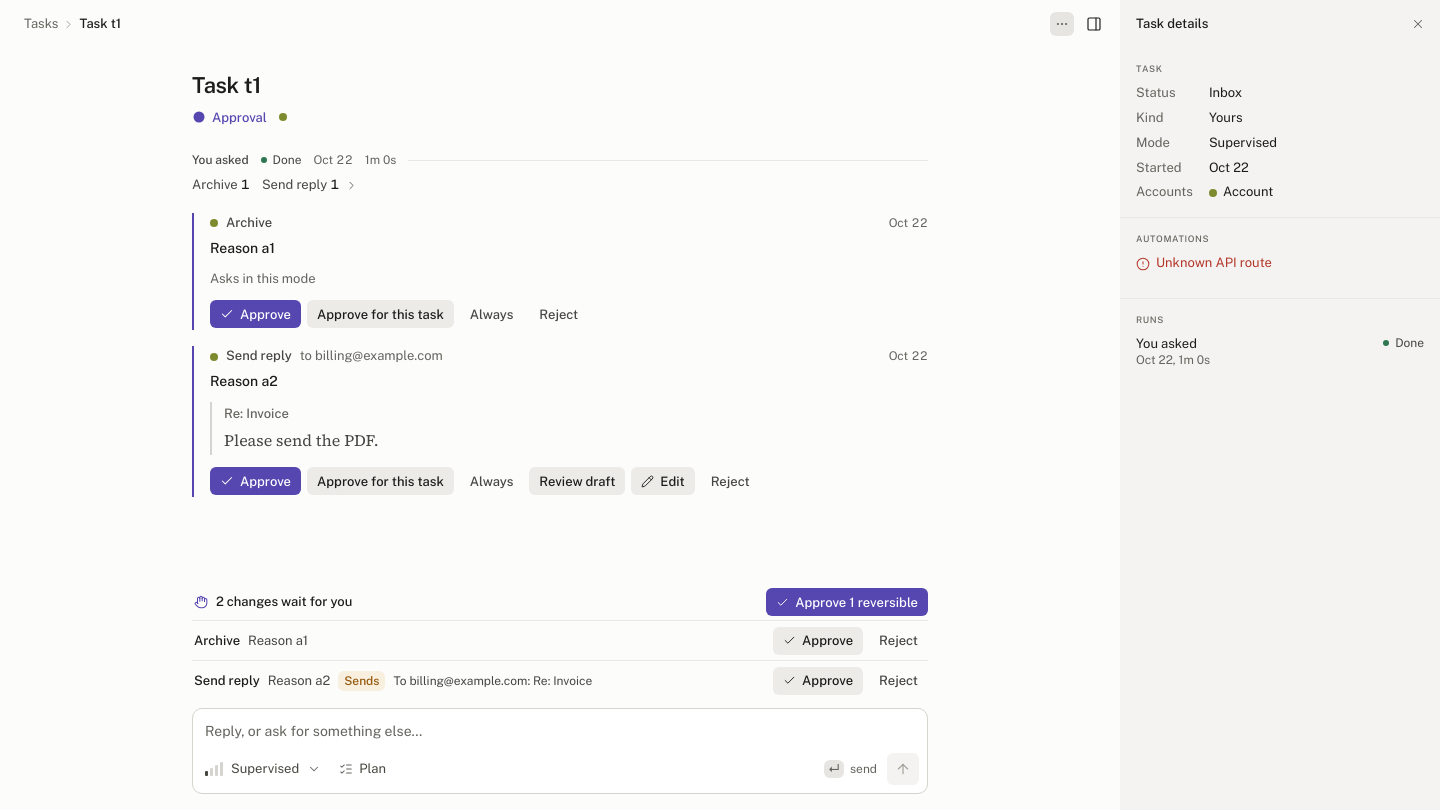
approvals › wires inline cards and the composer panel to approve and reject, following pendingActionIds
Expected: the button "Edit" is shown, [631, 467, 695, 495]
What coordinates should you click on to do the following:
click the button "Approve 1 reversible"
I would click on:
 (847, 602)
Its box is [766, 588, 928, 616].
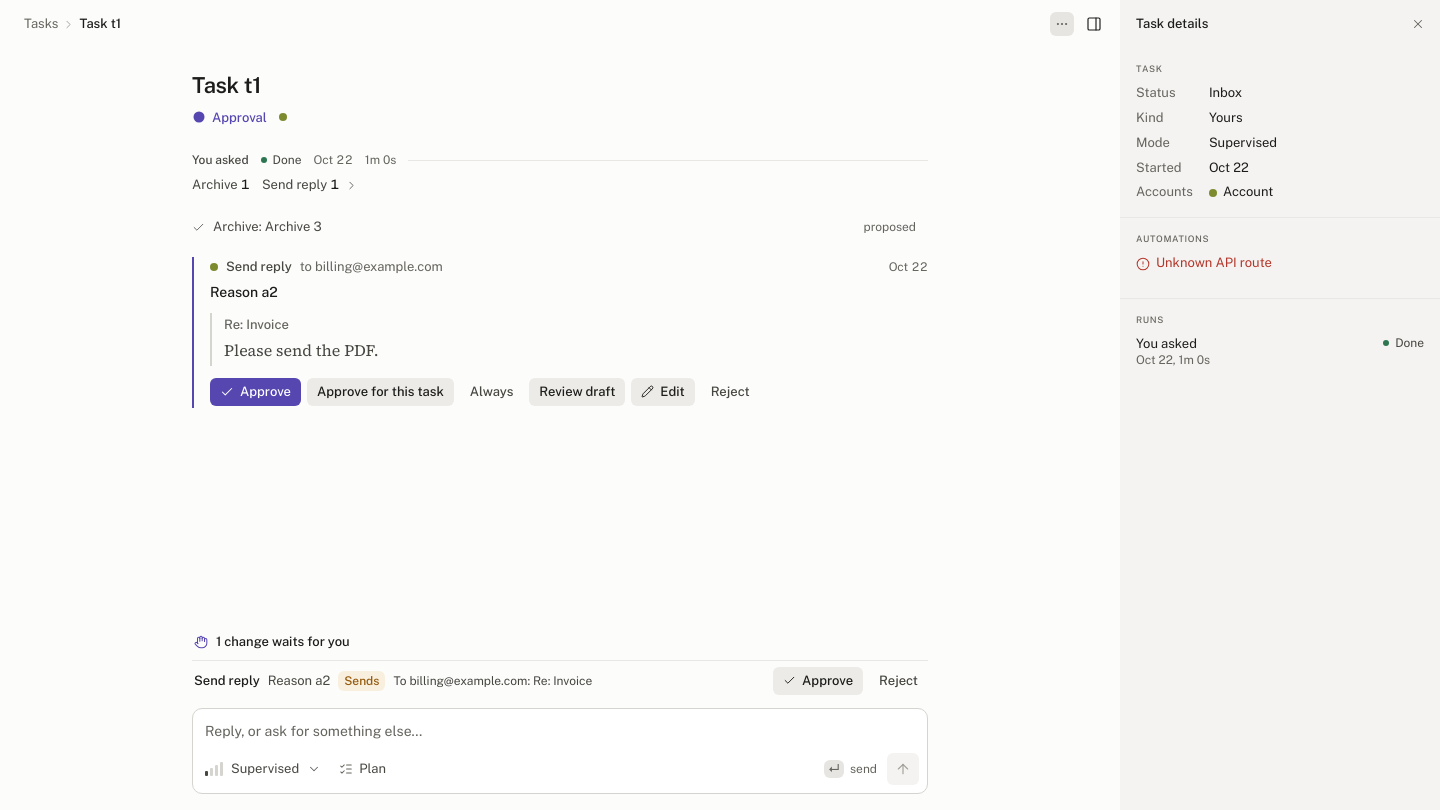
Now the element "1 change waits for you" is shown, box [192, 624, 928, 700]
What coordinates should you click on to do the following:
click the button with aria-label "Reject: Reason a2"
I would click on:
 (899, 680)
Its box is [869, 666, 928, 694].
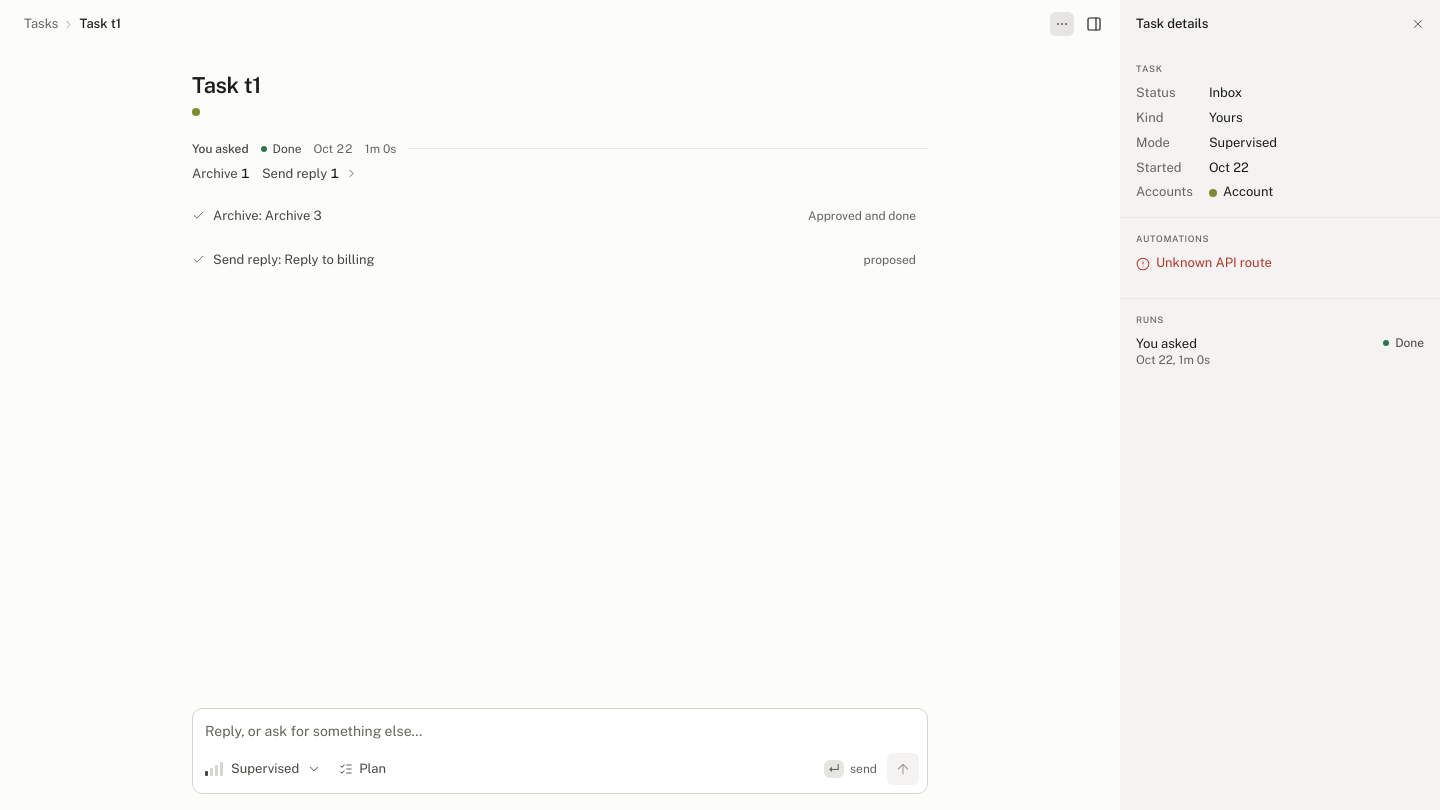
Now the heading "wait" is gone
Now the heading "Reason a2" is gone
